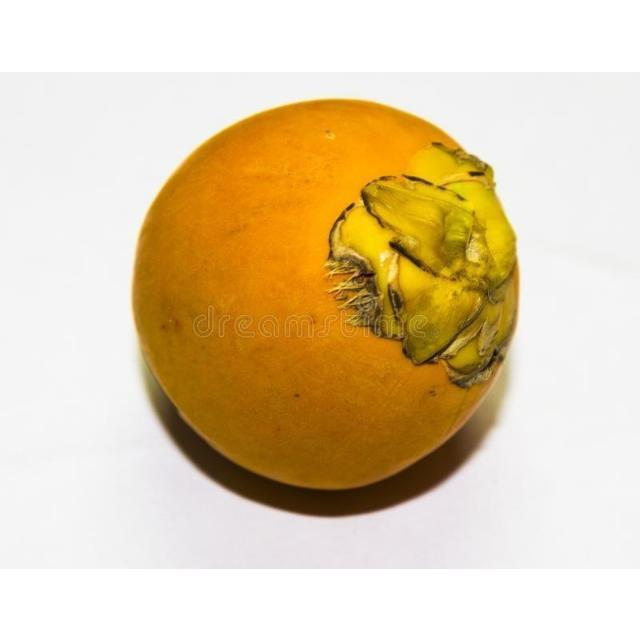good: (130, 98, 522, 495)
